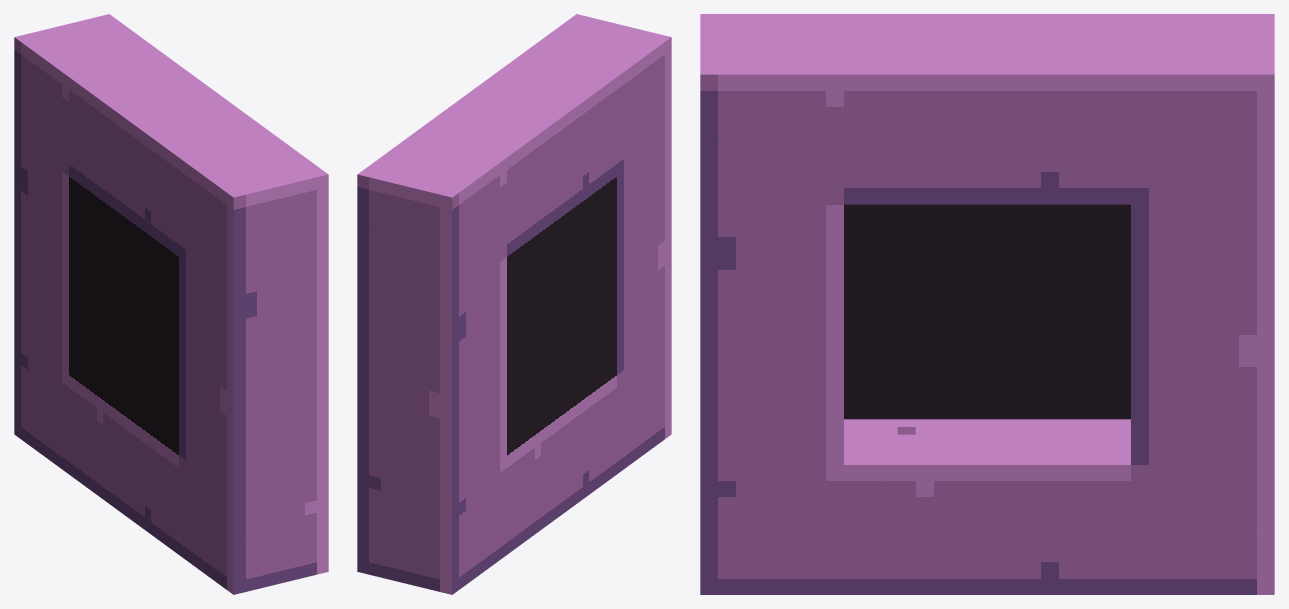
Rendered from zu_city_windowao.fezao.glb.
3 views of the same model, side by side, from view 1: azimuth 30°, elevation 25°; view 2: azimuth 150°, elevation 25°; view 3: azimuth 270°, elevation 25° (orthographic). The views are drawn at different scales.
Visible parts, largest first — view 1: ZU_CITY_WINDOWAO; view 2: ZU_CITY_WINDOWAO; view 3: ZU_CITY_WINDOWAO.
Boxes of the visible parts, x1,y1,x2,y2 form: ZU_CITY_WINDOWAO: (14, 14, 328, 594); ZU_CITY_WINDOWAO: (357, 14, 671, 594); ZU_CITY_WINDOWAO: (700, 14, 1274, 594).
Size of the model in its own units: 0.5 by 2 by 2.
1 material, 1 textured.
